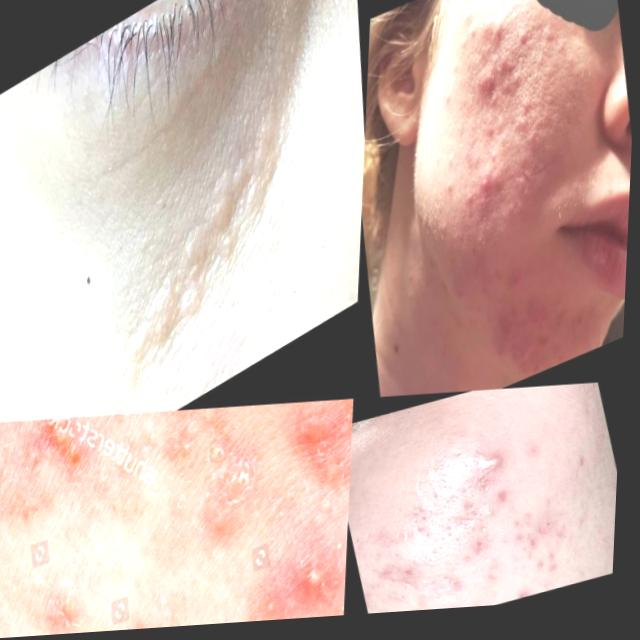8: (468, 454, 516, 490), (492, 70, 530, 112), (479, 12, 509, 61), (477, 165, 505, 206), (492, 50, 519, 89), (524, 300, 547, 341), (512, 170, 535, 207), (471, 261, 490, 296), (510, 346, 529, 379), (543, 27, 562, 55), (512, 32, 531, 59)
9: (294, 558, 334, 620)
blackheads: (87, 127, 301, 416), (48, 416, 101, 492), (571, 457, 606, 491), (536, 558, 568, 591), (439, 576, 472, 604), (469, 540, 498, 570), (375, 565, 408, 590), (410, 525, 439, 549), (407, 566, 427, 598), (458, 502, 481, 528), (523, 539, 546, 562), (496, 492, 521, 513)
dark spot: (512, 119, 533, 146), (521, 99, 534, 119)
pustules: (475, 67, 499, 112)
